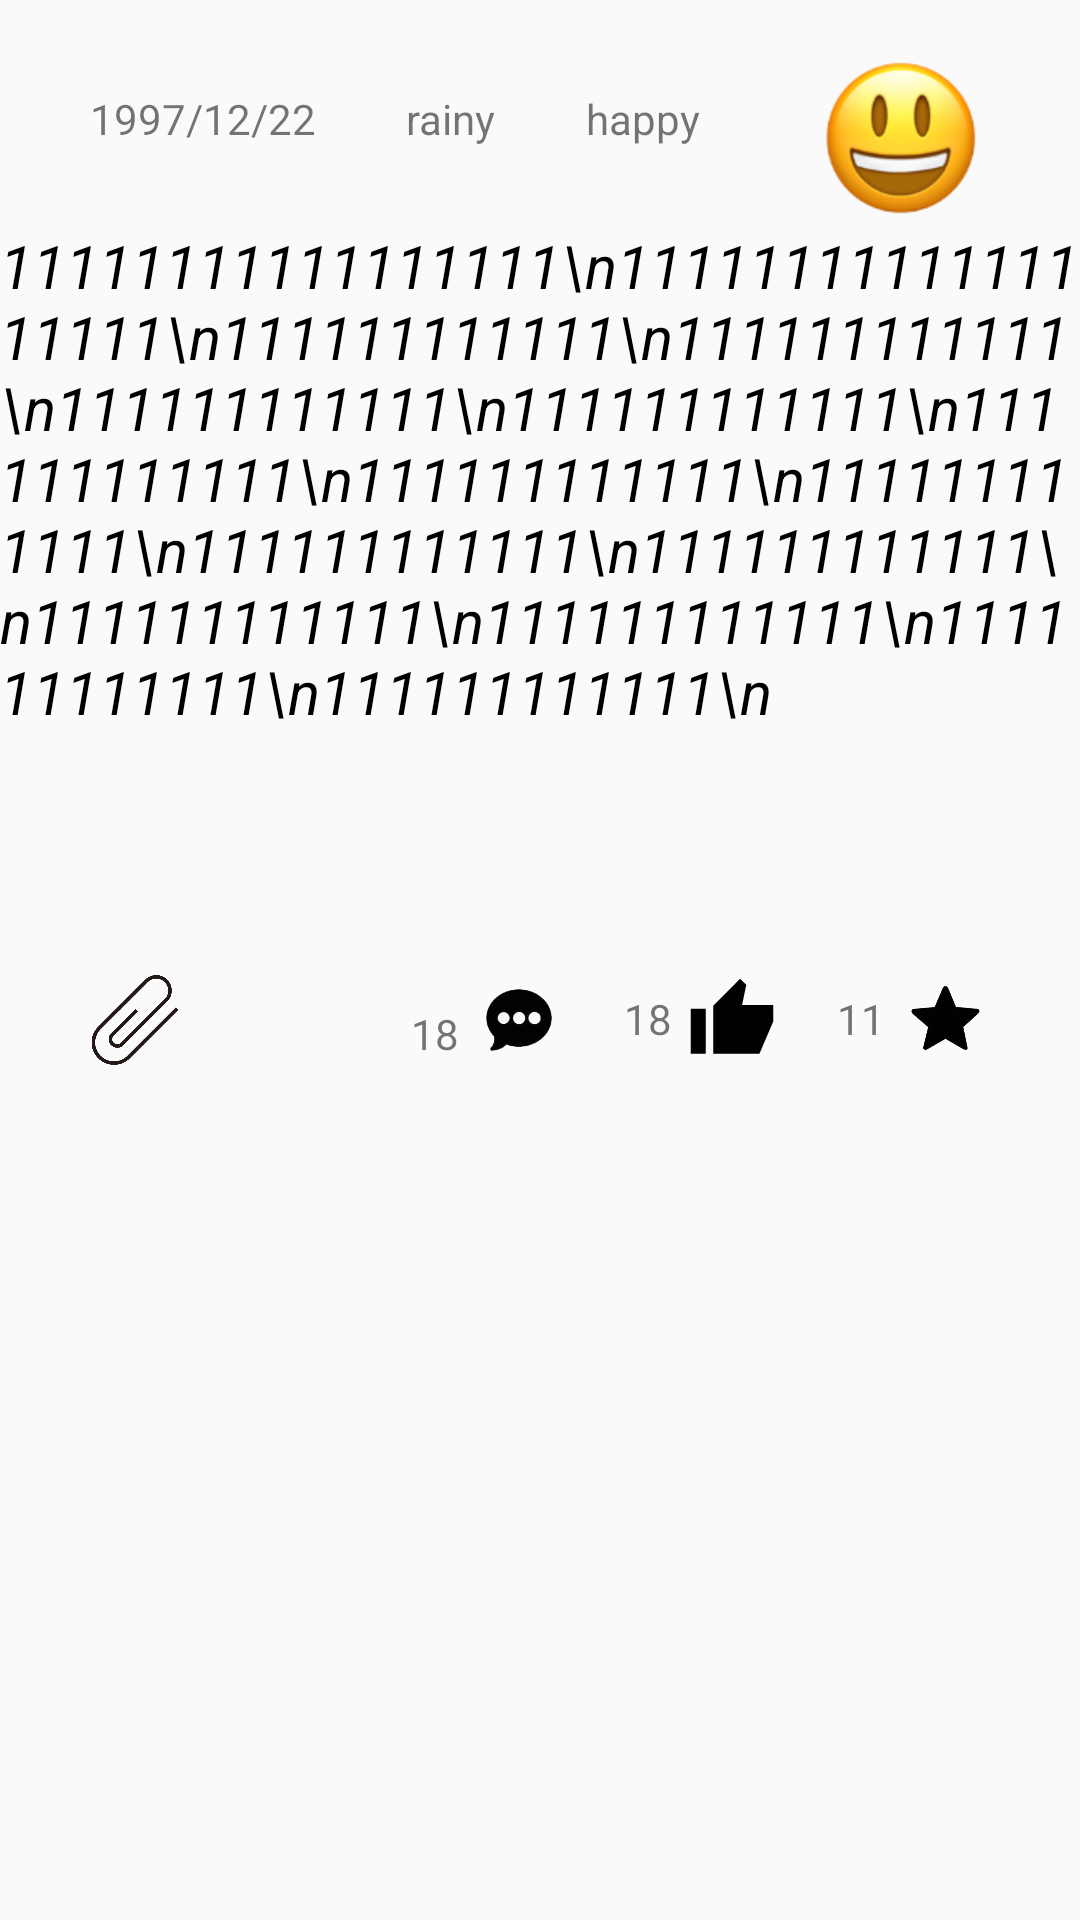

Named icons in this screenshot (1080*1920) and their bounding boxes, (x1, y1, x2, y2):
comment: (486, 989, 552, 1051)
likes: (690, 979, 774, 1054)
stars: (911, 986, 980, 1050)
